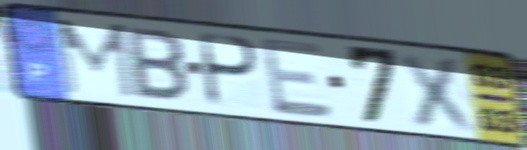7: (343, 42, 402, 126)
B: (124, 24, 192, 105)
E: (257, 34, 336, 120)
M: (53, 16, 139, 102)
P: (199, 30, 263, 111)
X: (395, 49, 484, 136)
